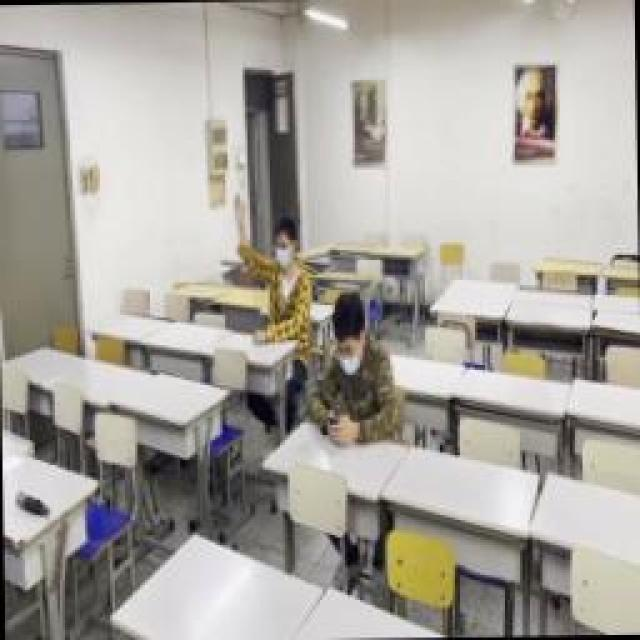phone: (312, 295, 398, 445)
study: (235, 193, 313, 345)
